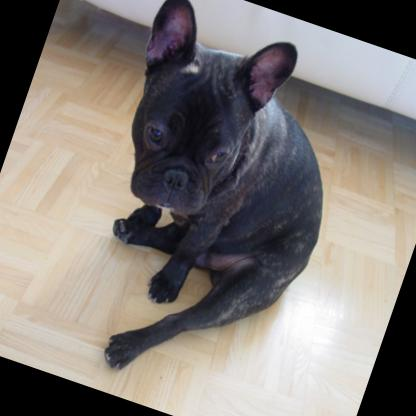French_bulldog: (39, 0, 379, 416)
